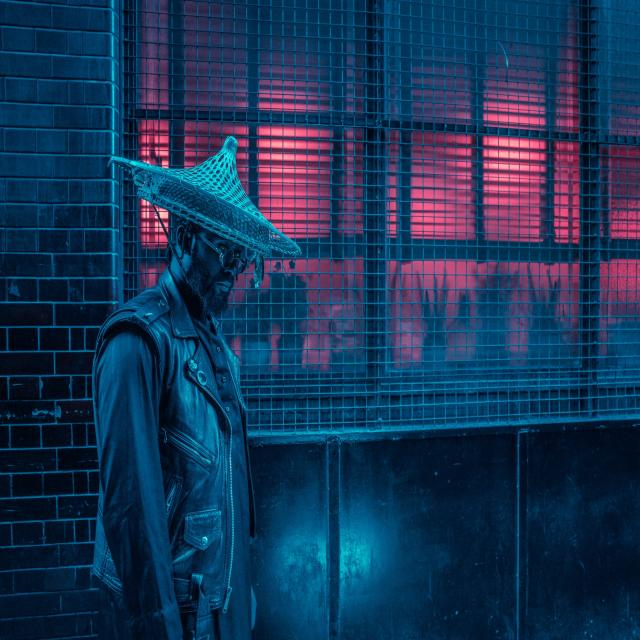adult: (92, 180, 258, 640)
